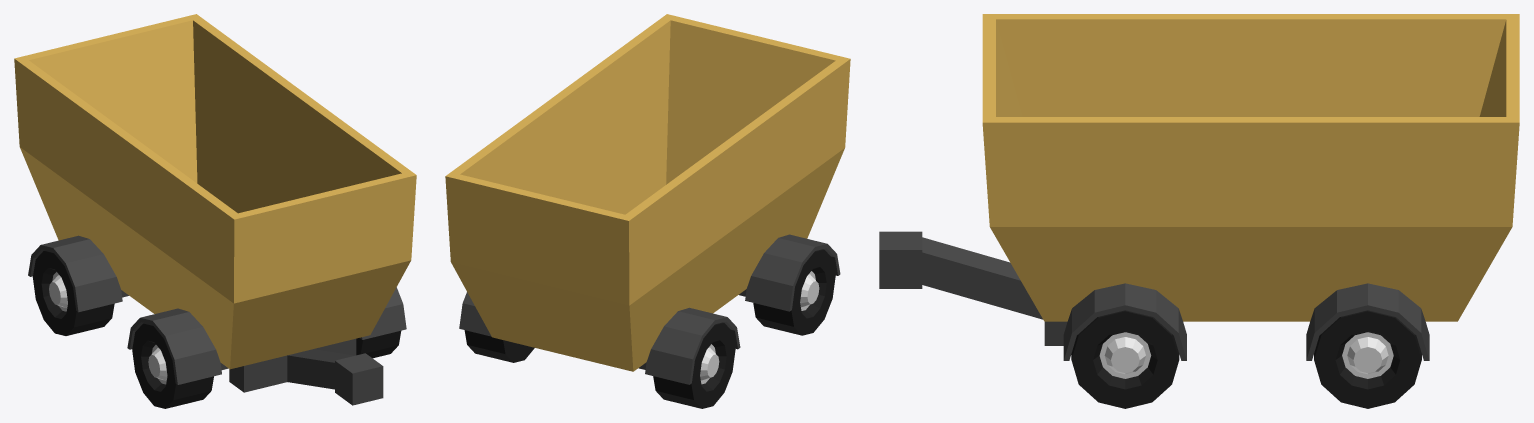
The model's file is carroca_trator2.glb.
3 renders of one model, left to right at view 1: azimuth 30°, elevation 25°; view 2: azimuth 150°, elevation 25°; view 3: azimuth 270°, elevation 25°, orthographic. The views are drawn at different scales.
Visible parts, largest first — view 1: carroca2_trator-vehicle.001, carroca2_trator-vehicle, wheel_front_right-wheel.002, wheel_back_right-wheel.001, pino_gancho.001, wheel_front_left-wheel.001; view 2: carroca2_trator-vehicle.001, wheel_front_right-wheel.002, wheel_back_right-wheel.001, wheel_back_left-wheel.001; view 3: carroca2_trator-vehicle.001, wheel_front_left-wheel.001, wheel_back_left-wheel.001, carroca2_trator-vehicle, pino_gancho.001.
Boxes of the visible parts, x1=… form: carroca2_trator-vehicle.001: x1=14, y1=14, x2=416, y2=384; carroca2_trator-vehicle: x1=229, y1=338, x2=356, y2=392; wheel_front_right-wheel.002: x1=132, y1=323, x2=213, y2=408; wheel_back_right-wheel.001: x1=32, y1=250, x2=114, y2=335; pino_gancho.001: x1=335, y1=353, x2=383, y2=405; wheel_front_left-wheel.001: x1=356, y1=330, x2=401, y2=358; carroca2_trator-vehicle.001: x1=445, y1=14, x2=850, y2=384; wheel_front_right-wheel.002: x1=753, y1=249, x2=835, y2=335; wheel_back_right-wheel.001: x1=653, y1=322, x2=735, y2=408; wheel_back_left-wheel.001: x1=464, y1=330, x2=534, y2=362; carroca2_trator-vehicle.001: x1=982, y1=14, x2=1519, y2=360; wheel_front_left-wheel.001: x1=1071, y1=310, x2=1179, y2=408; wheel_back_left-wheel.001: x1=1314, y1=310, x2=1421, y2=408; carroca2_trator-vehicle: x1=922, y1=237, x2=1067, y2=345; pino_gancho.001: x1=879, y1=231, x2=922, y2=288.
Bounding box in the file's own units: 3.59 × 3.36 × 7.13.
